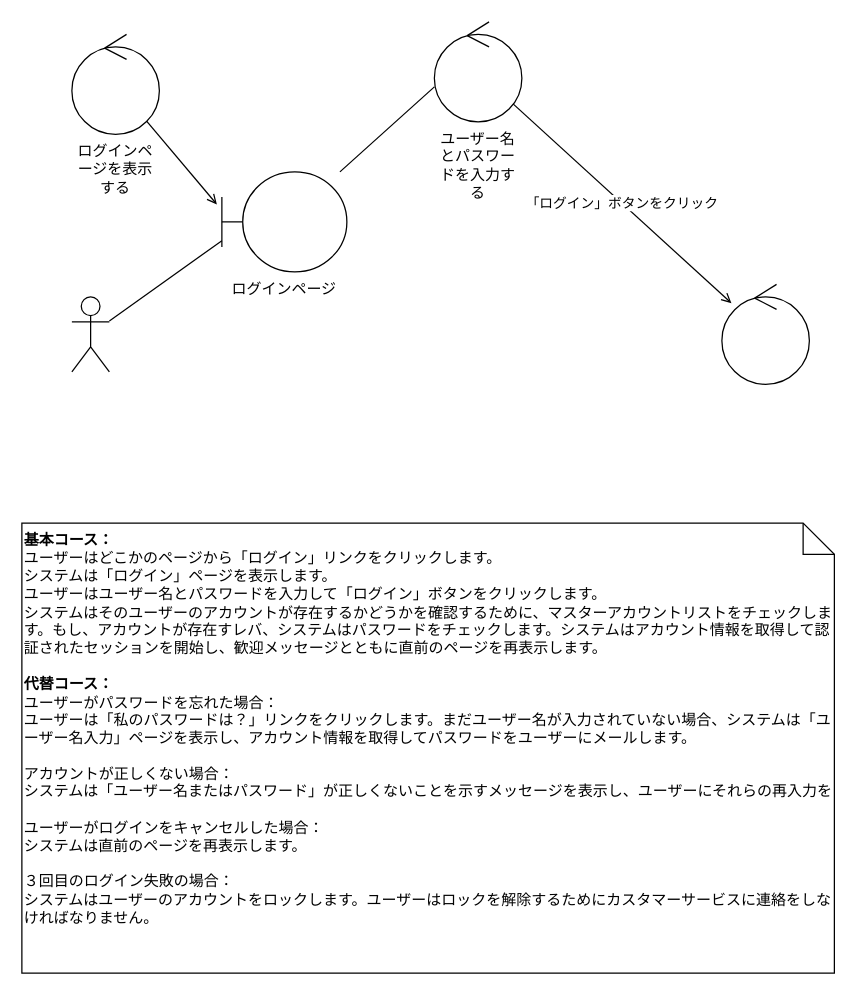
The diagram is 856 pixels wide and 995 high, and some of its shapes have lost their labels. The centre of each missing label's shape, as x and y in pixels:
"アカウントは存在するか？" goes at pixel 765 333.
"ユーザー" goes at pixel 90 334.
